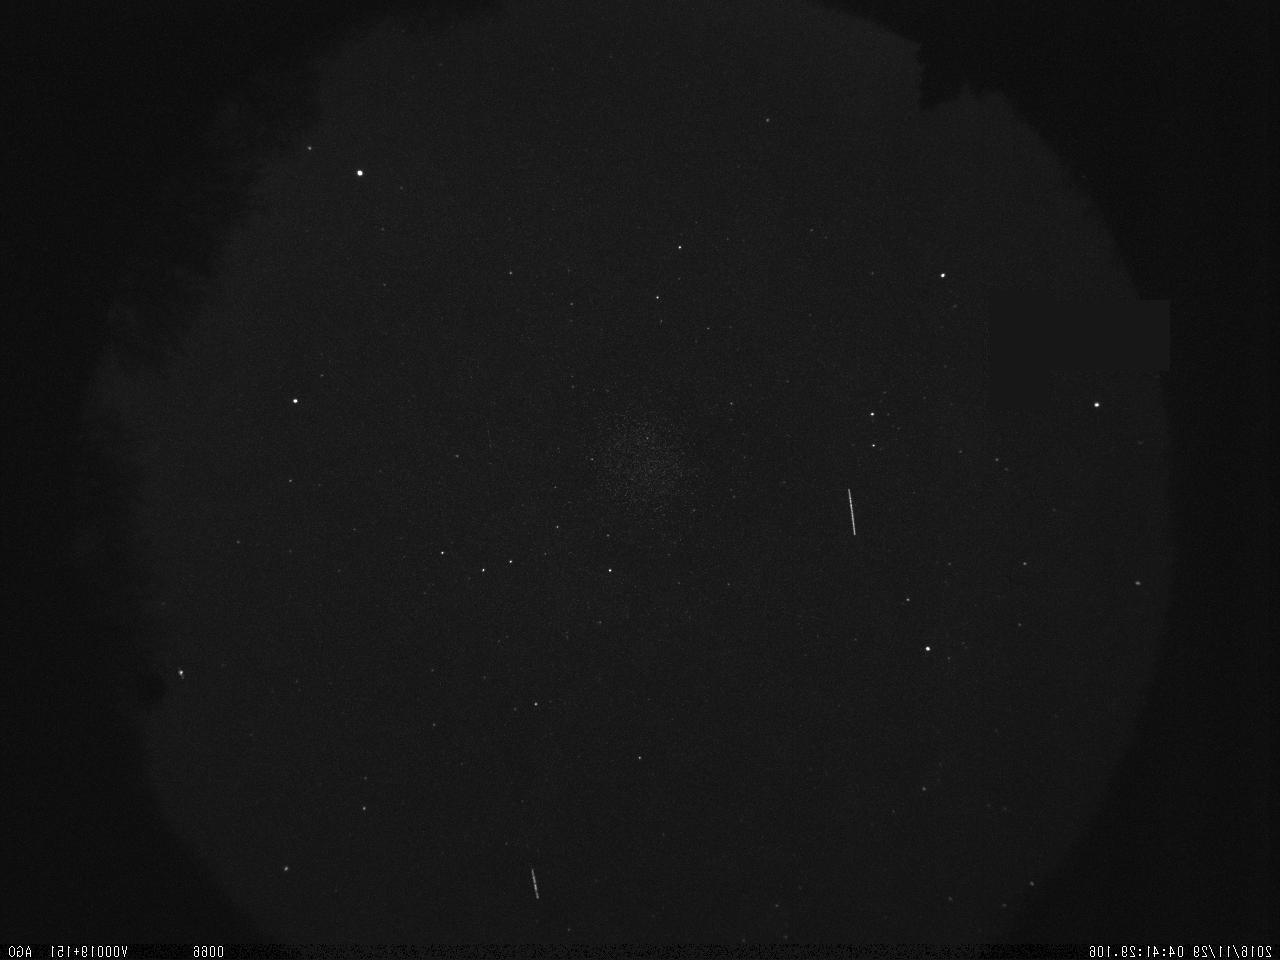meteor: (513, 852, 557, 914)
